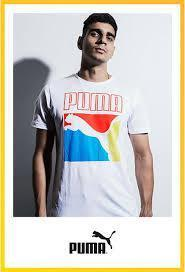Tshirt: (29, 73, 150, 218)
